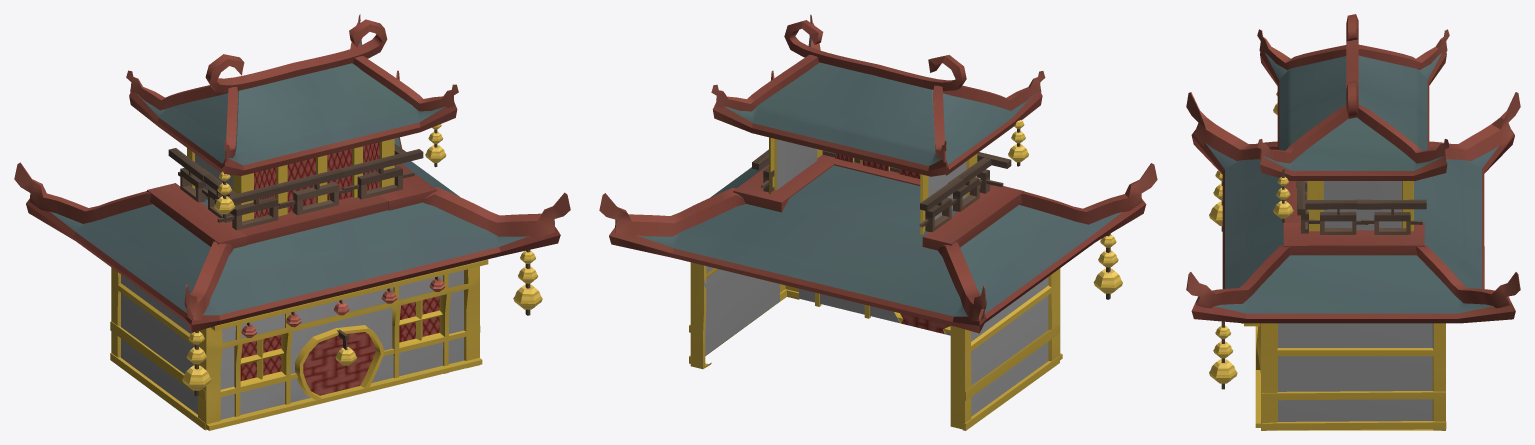
File: just_house.fbx
3 renders of one model, left to right at view 1: azimuth 30°, elevation 25°; view 2: azimuth 150°, elevation 25°; view 3: azimuth 270°, elevation 25°, orthographic. The views are drawn at different scales.
Visible parts, largest first — view 1: justhouse; view 2: justhouse; view 3: justhouse.
Boxes of the visible parts, x1,y1,x2,y2 form: justhouse: (14, 14, 570, 430); justhouse: (599, 14, 1157, 430); justhouse: (1186, 14, 1520, 430).
Bounding box in the file's own units: 9.66 × 7.8 × 7.43.
